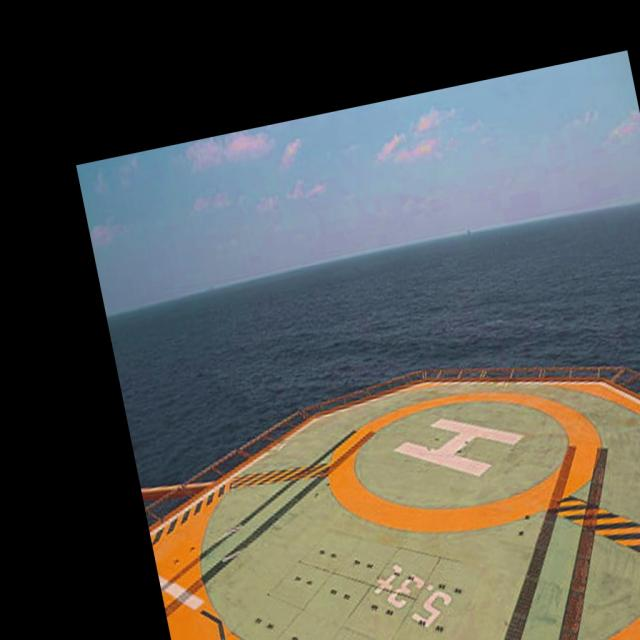helipad: (322, 388, 606, 536)
